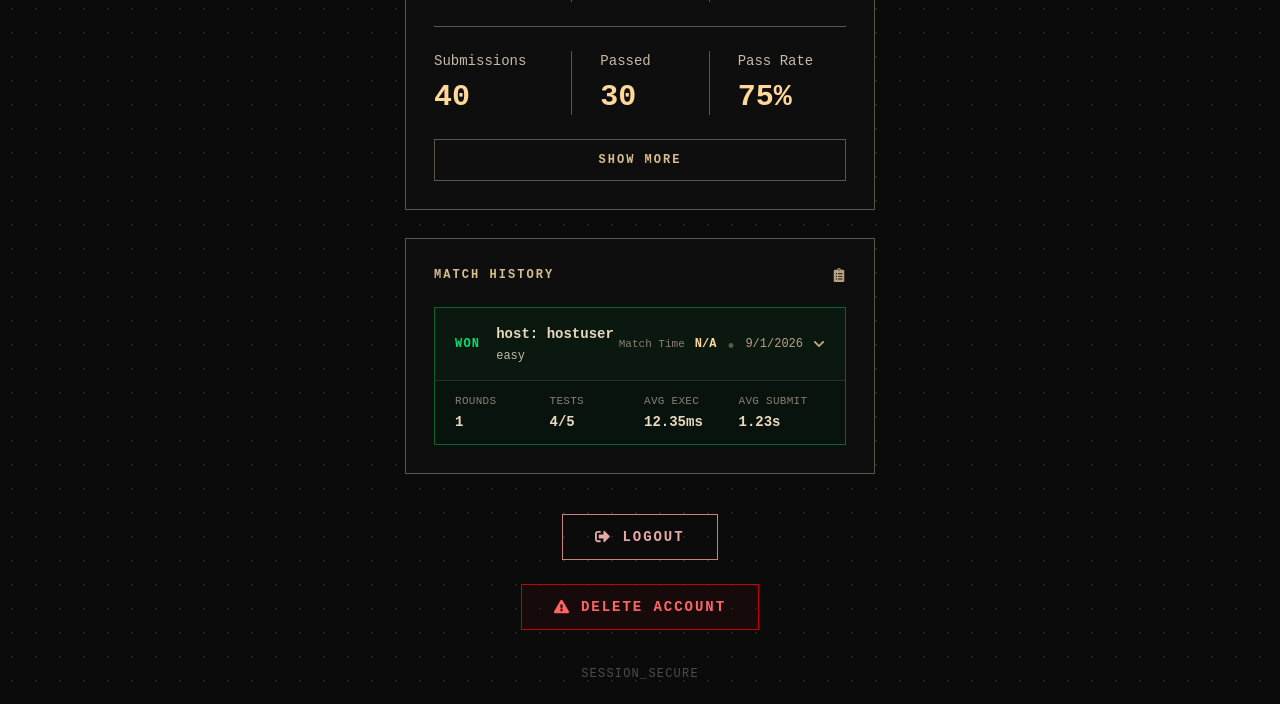
Scenario: Profile FIXED: submission time fields no longer crash on expand › still shows real values normally when submission times are present
(page scrolled)
Click the button "WON host: hostuser easy Match Time N/A • 9/1/2026": (640, 344) [435,308,845,380]
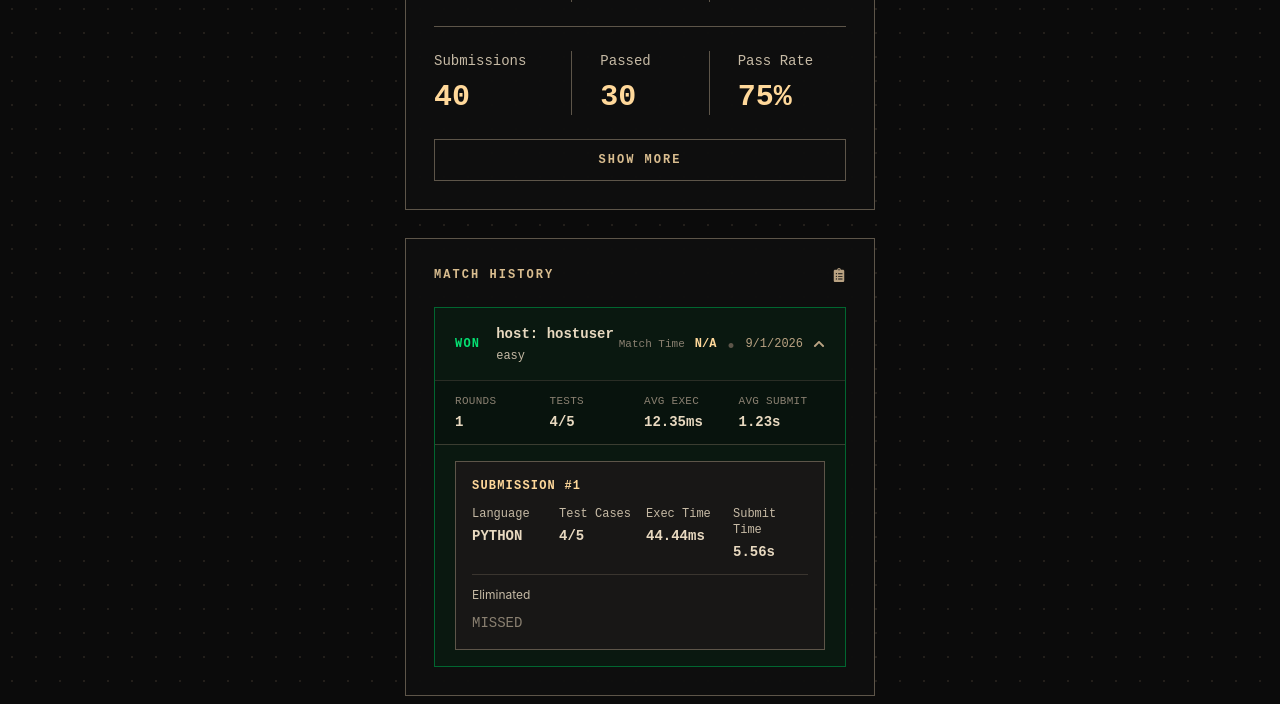
expect the text "12.35ms" is shown: met, box [644,414,703,430]
expect the text "44.44ms" is shown: met, box [646,528,705,544]
expect the text "5.56s" is shown: met, box [733,544,775,560]
